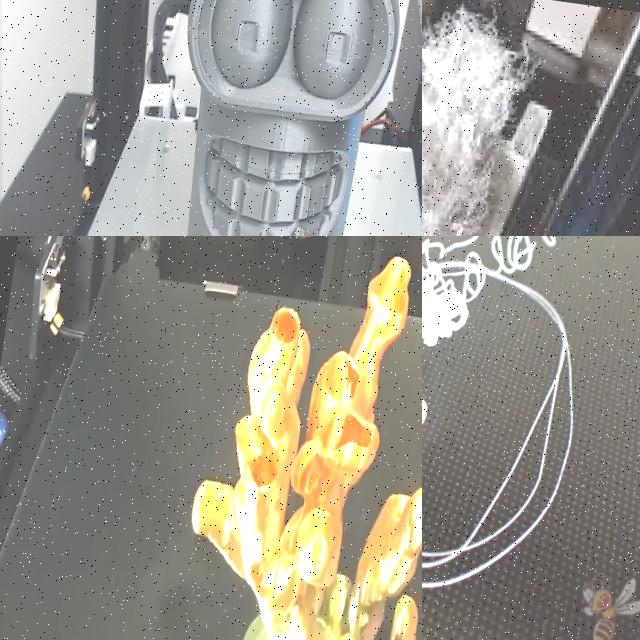spaghetti: (422, 7, 549, 236), (422, 236, 591, 344)
